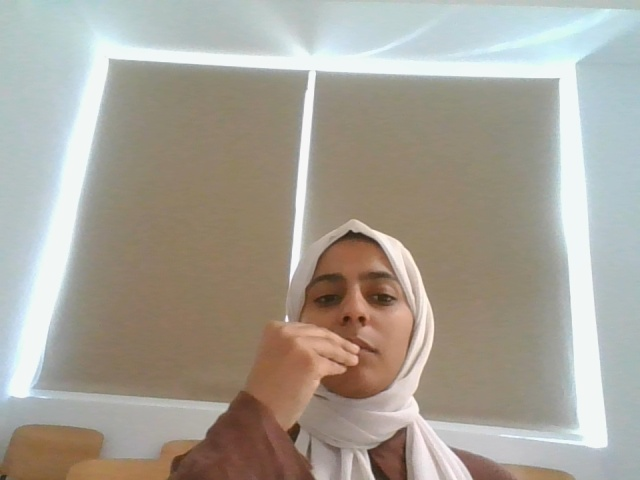eat: (250, 316, 361, 419)
